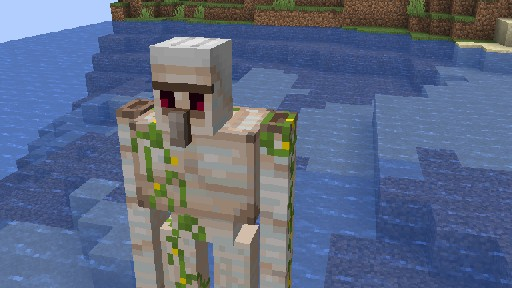iron_golem: (115, 35, 297, 288)
